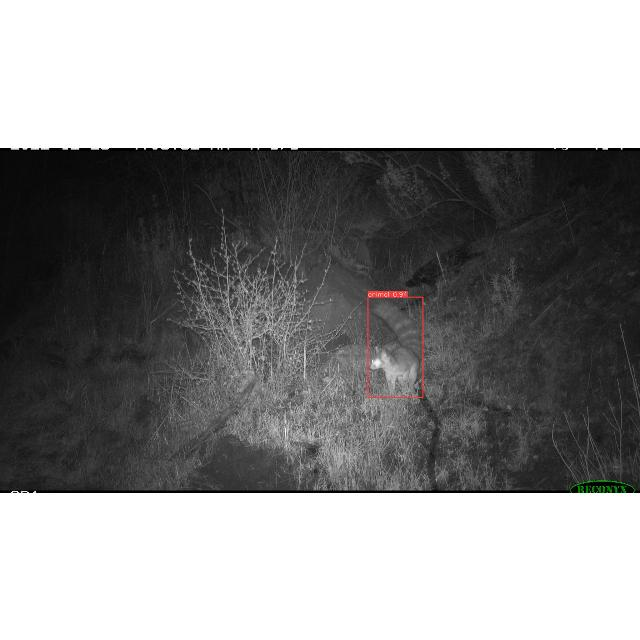animals: (369, 296, 423, 396)
